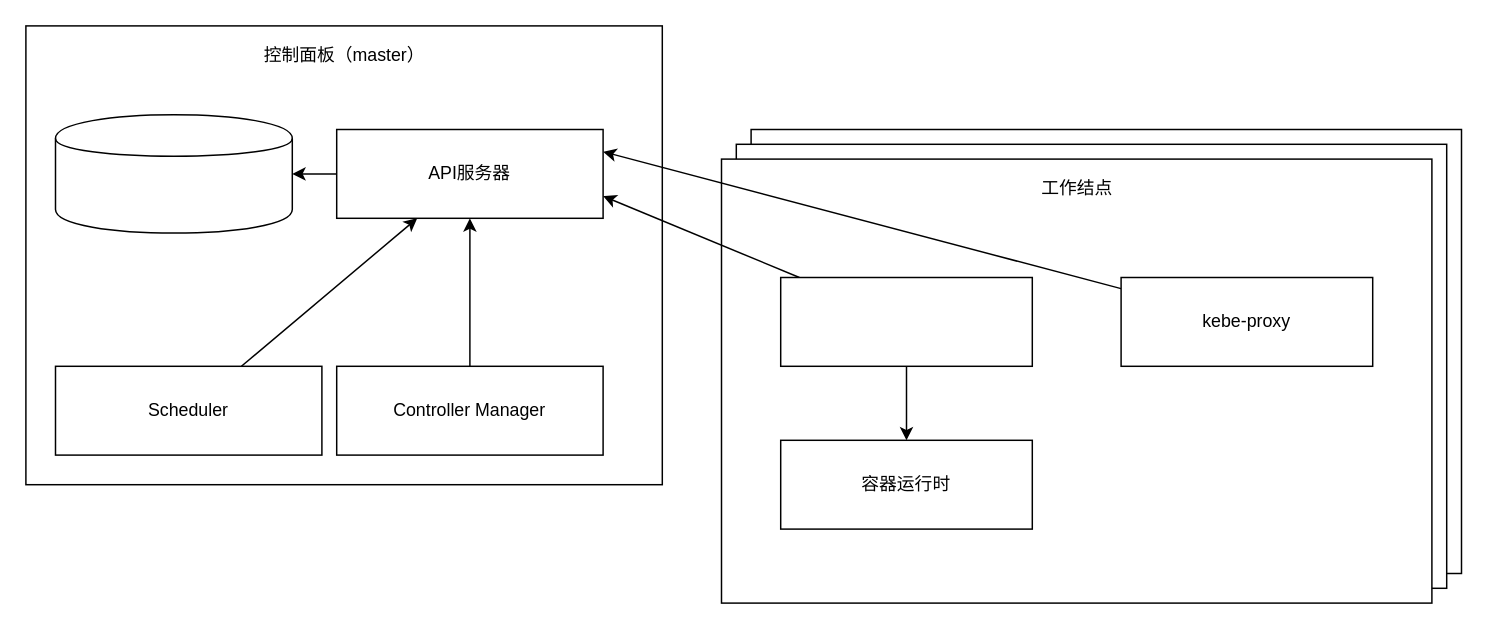
Image size: 1487x629. Some labels were removed from this diagram. The box of each missing label's shape, as (x1, y1, x2, y2) in pixels:
etcd: (54, 113, 292, 233)
Kubelet: (779, 276, 1032, 366)
